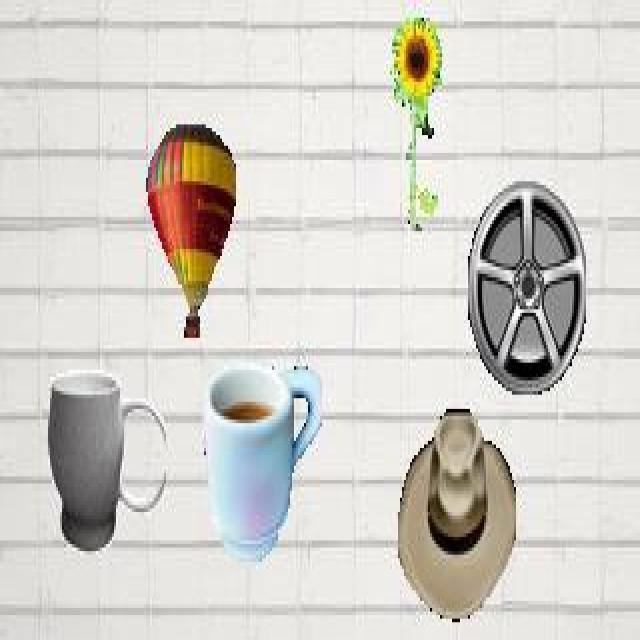Other Objects: (396, 406, 516, 620), (201, 361, 323, 563), (49, 370, 167, 552), (146, 121, 238, 336)
